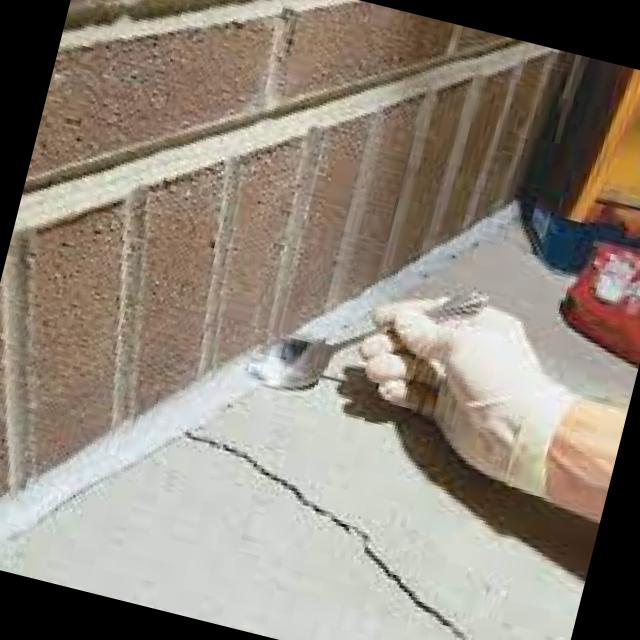crack: (138, 422, 595, 640)
